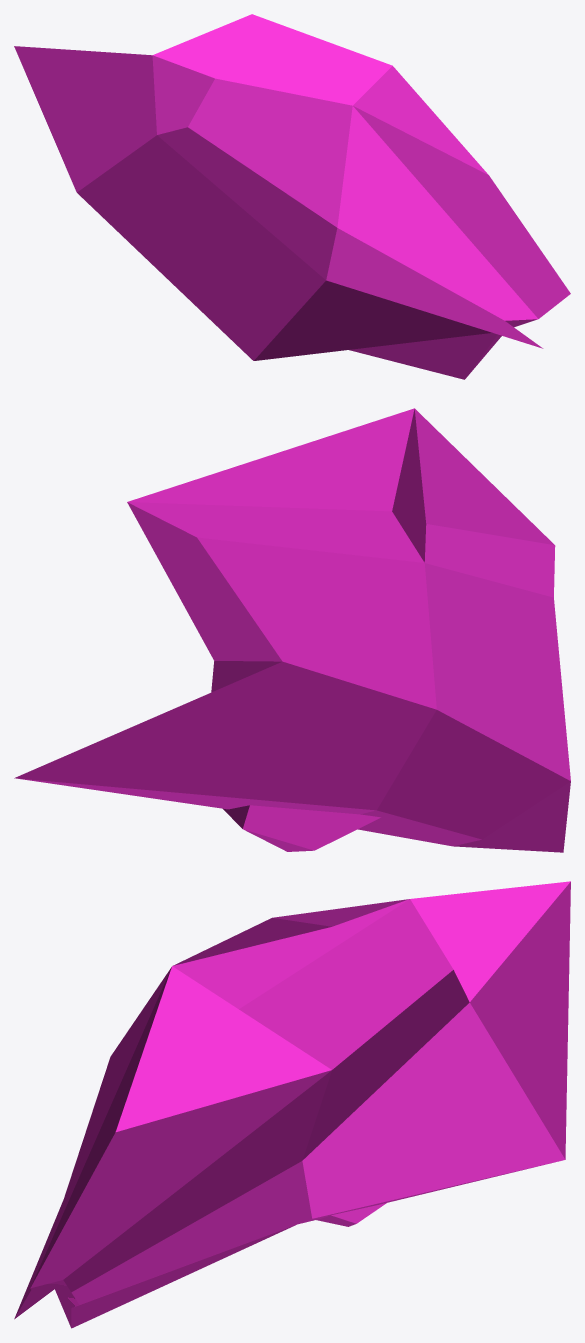
File: CrystalDebris2.fbx
3 renders of one model, top to bottom at view 1: azimuth 30°, elevation 25°; view 2: azimuth 150°, elevation 25°; view 3: azimuth 270°, elevation 25°, orthographic. The views are drawn at different scales.
Parts seen in each view (by area): view 1: CrystalDebris2; view 2: CrystalDebris2; view 3: CrystalDebris2.
Boxes of the visible parts, box(x1,y1,x2,y2) form: CrystalDebris2: box(14, 14, 570, 379); CrystalDebris2: box(14, 408, 570, 852); CrystalDebris2: box(14, 881, 570, 1328).
Bounding box in the file's own units: 106 × 78.25 × 121.
